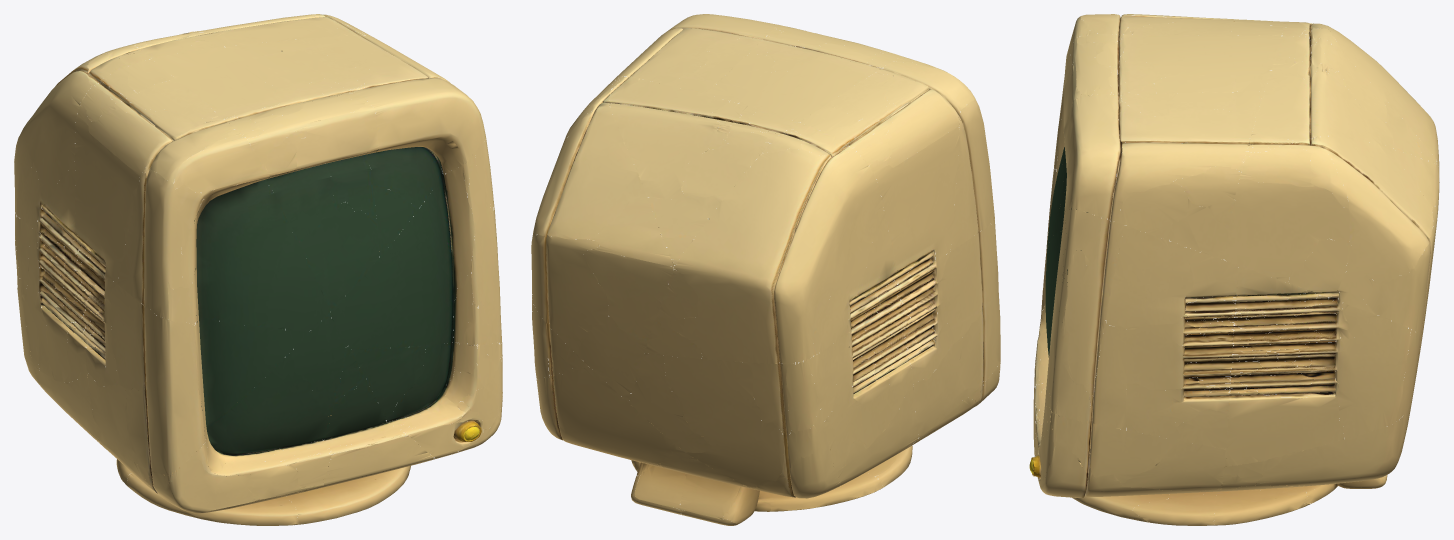
File: computer.fitted.glb
3 renders of one model, left to right at view 1: azimuth 30°, elevation 25°; view 2: azimuth 150°, elevation 25°; view 3: azimuth 270°, elevation 25°, orthographic. The views are drawn at different scales.
Visible parts, largest first — view 1: computer; view 2: computer; view 3: computer.
Boxes of the visible parts, x1,y1,x2,y2 form: computer: [14, 14, 502, 525]; computer: [531, 14, 1000, 525]; computer: [1029, 14, 1439, 525].
Size of the model in its own units: 0.8893 by 0.9801 by 0.9211.
Materials: 1 (1 with a texture image).
